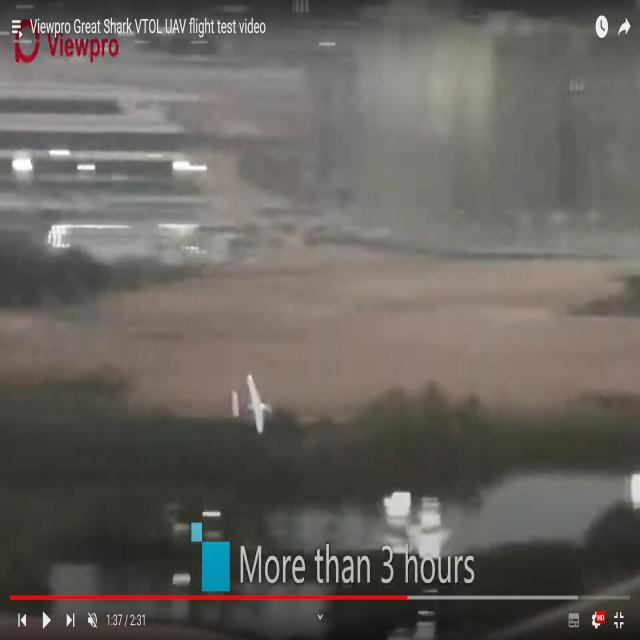iha: (230, 373, 272, 433)
